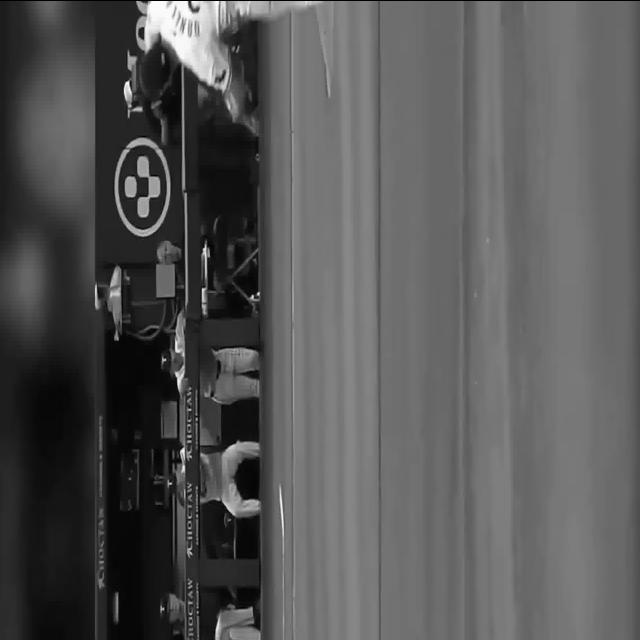baseball_glove: (222, 53, 246, 119)
